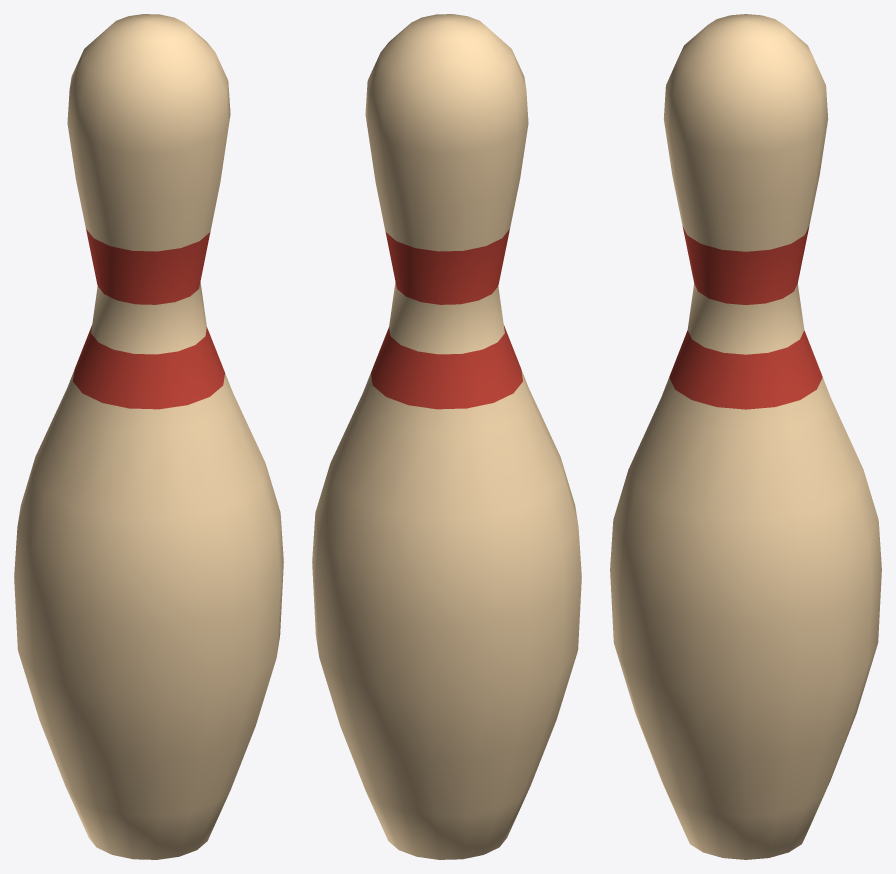
The model's file is bowling.fbx.
3 views of the same model, side by side, from view 1: azimuth 30°, elevation 25°; view 2: azimuth 150°, elevation 25°; view 3: azimuth 270°, elevation 25° (orthographic).
Visible parts, largest first — view 1: bowling; view 2: bowling; view 3: bowling.
Part boxes in pixels (x1,y1,x2,y2): bowling: [14, 14, 283, 859]; bowling: [312, 14, 581, 859]; bowling: [610, 14, 881, 859].
Size of the model in its own units: 6.94 by 22.86 by 6.94.
